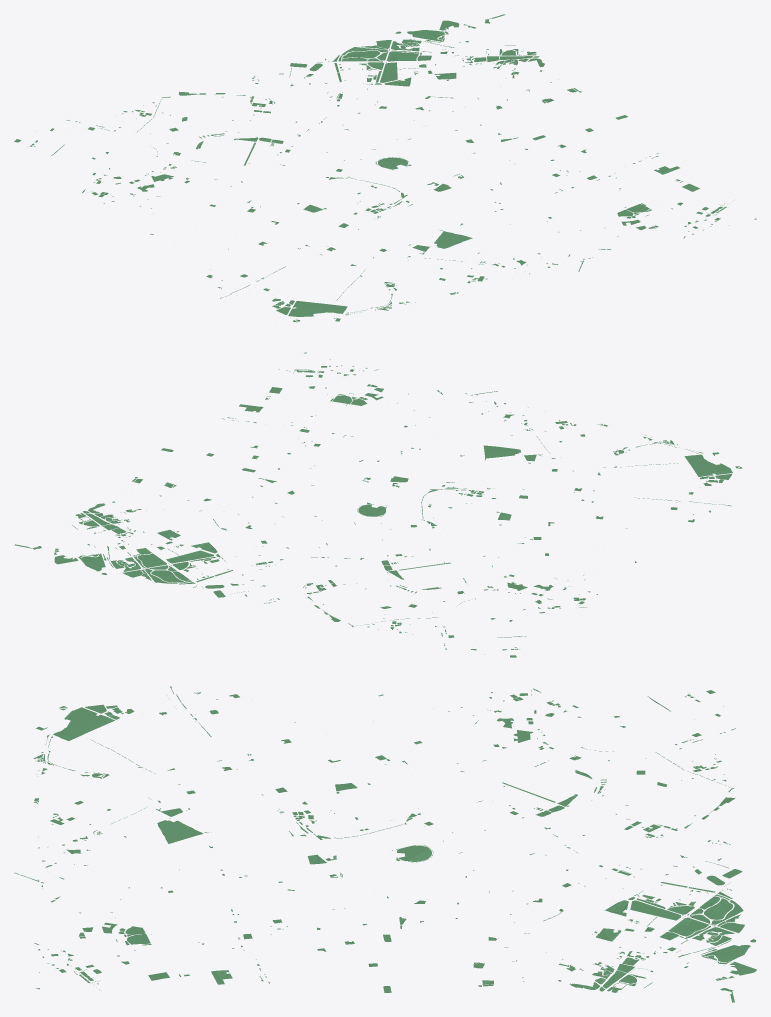
Rendered from green.glb.
3 renders of one model, top to bottom at view 1: azimuth 30°, elevation 25°; view 2: azimuth 150°, elevation 25°; view 3: azimuth 270°, elevation 25°, orthographic. The views are drawn at different scales.
Parts seen in each view (by area): view 1: green; view 2: green; view 3: green.
Part boxes in pixels (box(x1,y1,x2,y2)): green: box(14, 14, 756, 322); green: box(14, 352, 742, 657); green: box(14, 686, 756, 1002).
Size of the model in its own units: 9640 by 51.78 by 9603.
